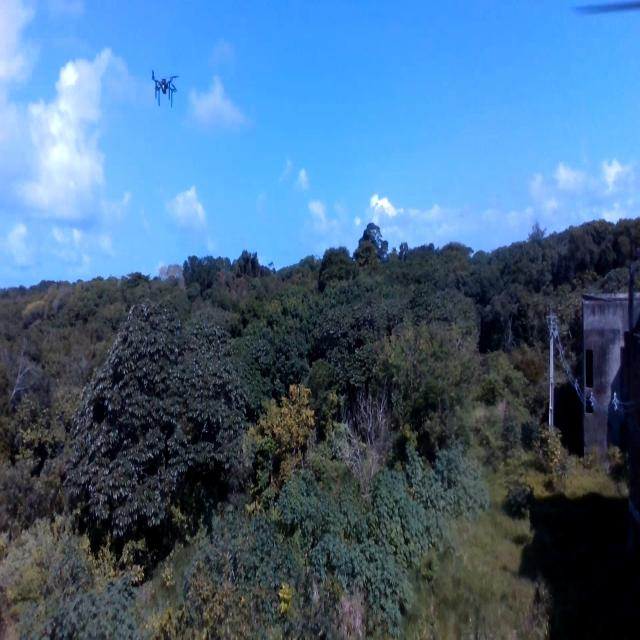-uav-: (147, 65, 181, 110)
